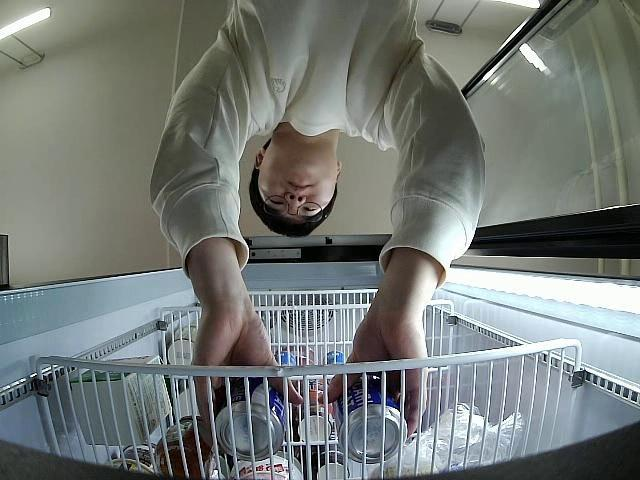13_pocariSweat: (214, 370, 292, 456), (335, 377, 408, 464)
